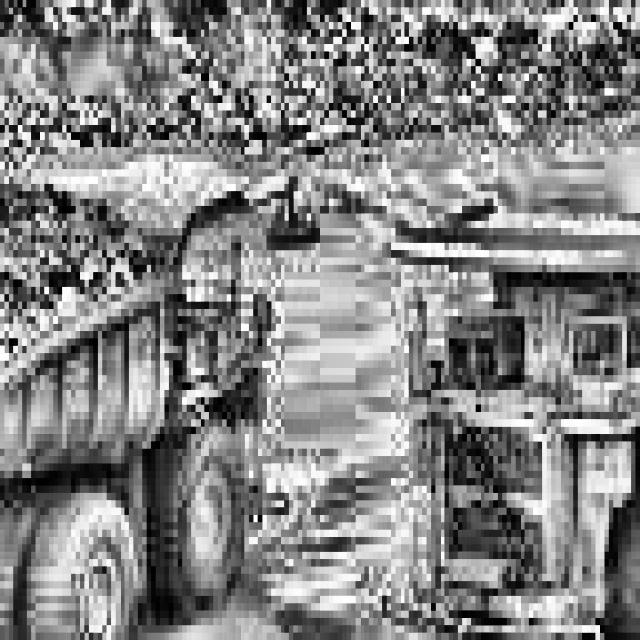dump_truck: (0, 88, 311, 640), (369, 117, 640, 640)
